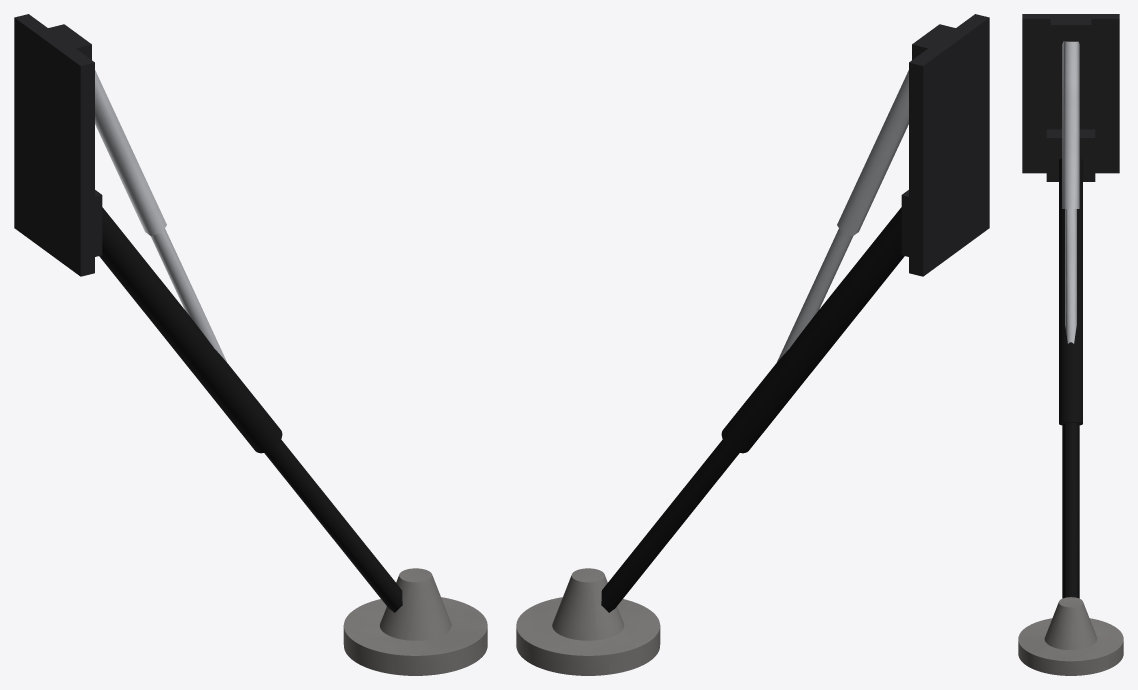
File: stage11_landing_leg_s_deployed.glb
The picture shows the model from 3 angles, left to right: view 1: azimuth 30°, elevation 25°; view 2: azimuth 150°, elevation 25°; view 3: azimuth 270°, elevation 25°; orthographic projection. The views are drawn at different scales.
Visible parts, largest first — view 1: bracket, primary_strut, footpad, telescoping_strut; view 2: bracket, primary_strut, footpad, telescoping_strut; view 3: bracket, primary_strut, footpad, telescoping_strut.
Boxes of the visible parts, left/top/right/bottom form: bracket: left=14, top=14, right=102, bottom=276; primary_strut: left=99, top=207, right=402, bottom=612; footpad: left=343, top=568, right=487, bottom=675; telescoping_strut: left=95, top=70, right=227, bottom=362; bracket: left=901, top=14, right=989, bottom=276; primary_strut: left=601, top=207, right=904, bottom=612; footpad: left=516, top=568, right=660, bottom=675; telescoping_strut: left=776, top=70, right=908, bottom=362; bracket: left=1022, top=14, right=1119, bottom=181; primary_strut: left=1059, top=158, right=1082, bottom=598; footpad: left=1018, top=597, right=1123, bottom=675; telescoping_strut: left=1062, top=41, right=1079, bottom=343.
Size of the model in its own units: 1.12 by 1.73 by 0.3249.
4 materials, 2 textured.
